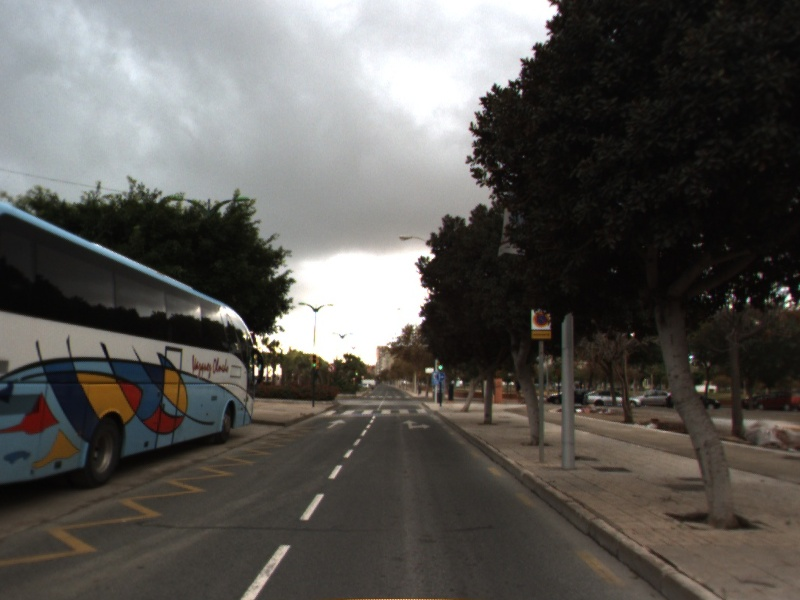STRAIGHT: (324, 417, 348, 430)
STRAIGHT_RIGHT: (401, 418, 433, 432)
